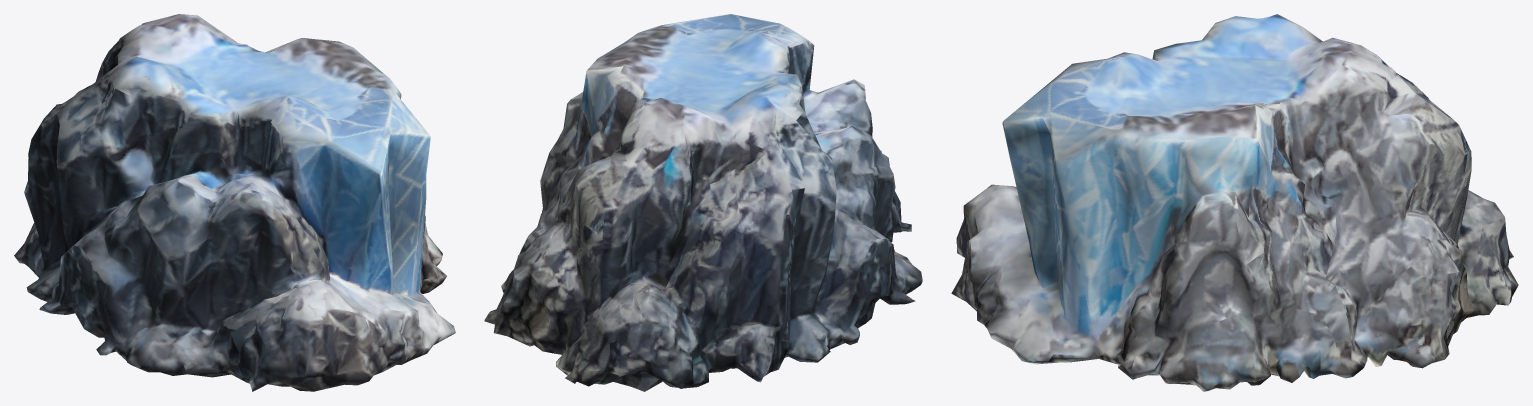
The model's file is SecondRoom_CaveBoulder.fbx.
The picture shows the model from 3 angles, left to right: view 1: azimuth 30°, elevation 25°; view 2: azimuth 150°, elevation 25°; view 3: azimuth 270°, elevation 25°; orthographic projection. The views are drawn at different scales.
Visible parts, largest first — view 1: SecondRoom_CaveBoulder_Mesh; view 2: SecondRoom_CaveBoulder_Mesh; view 3: SecondRoom_CaveBoulder_Mesh.
Part boxes in pixels (x1,y1,x2,y2): SecondRoom_CaveBoulder_Mesh: (14, 14, 455, 391); SecondRoom_CaveBoulder_Mesh: (484, 14, 922, 391); SecondRoom_CaveBoulder_Mesh: (951, 14, 1518, 391).
Bounding box in the file's own units: 4.63 × 2.98 × 6.
1 material, 1 textured.
